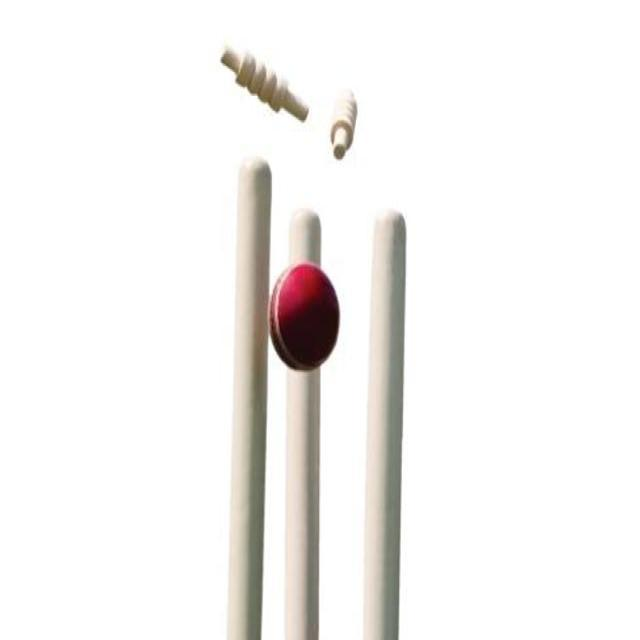stump: (225, 155, 407, 635)
